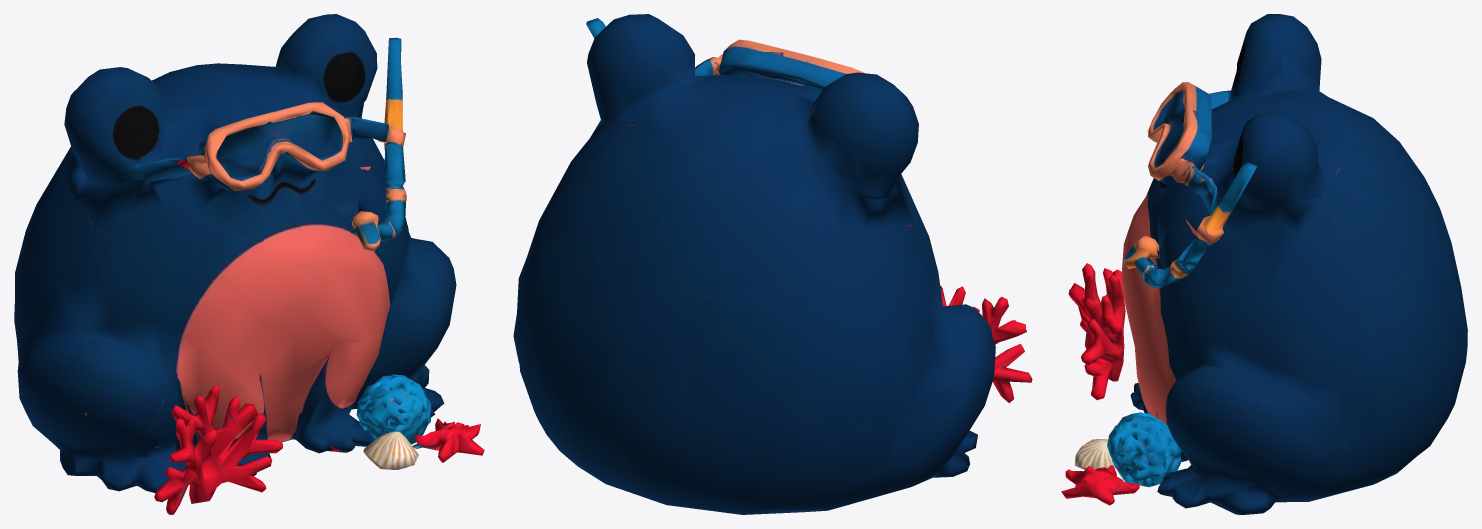
File: plongeuse.glb
3 renders of one model, left to right at view 1: azimuth 30°, elevation 25°; view 2: azimuth 150°, elevation 25°; view 3: azimuth 270°, elevation 25°, orthographic. The views are drawn at different scales.
Parts seen in each view (by area): view 1: mesh_node; view 2: mesh_node; view 3: mesh_node.
Part boxes in pixels (bbox=[...]): mesh_node: bbox=[14, 14, 484, 514]; mesh_node: bbox=[513, 14, 1032, 514]; mesh_node: bbox=[1061, 14, 1467, 514].
Size of the model in its own units: 1.89 by 1.63 by 1.66.
Materials: 1 (1 with a texture image).
